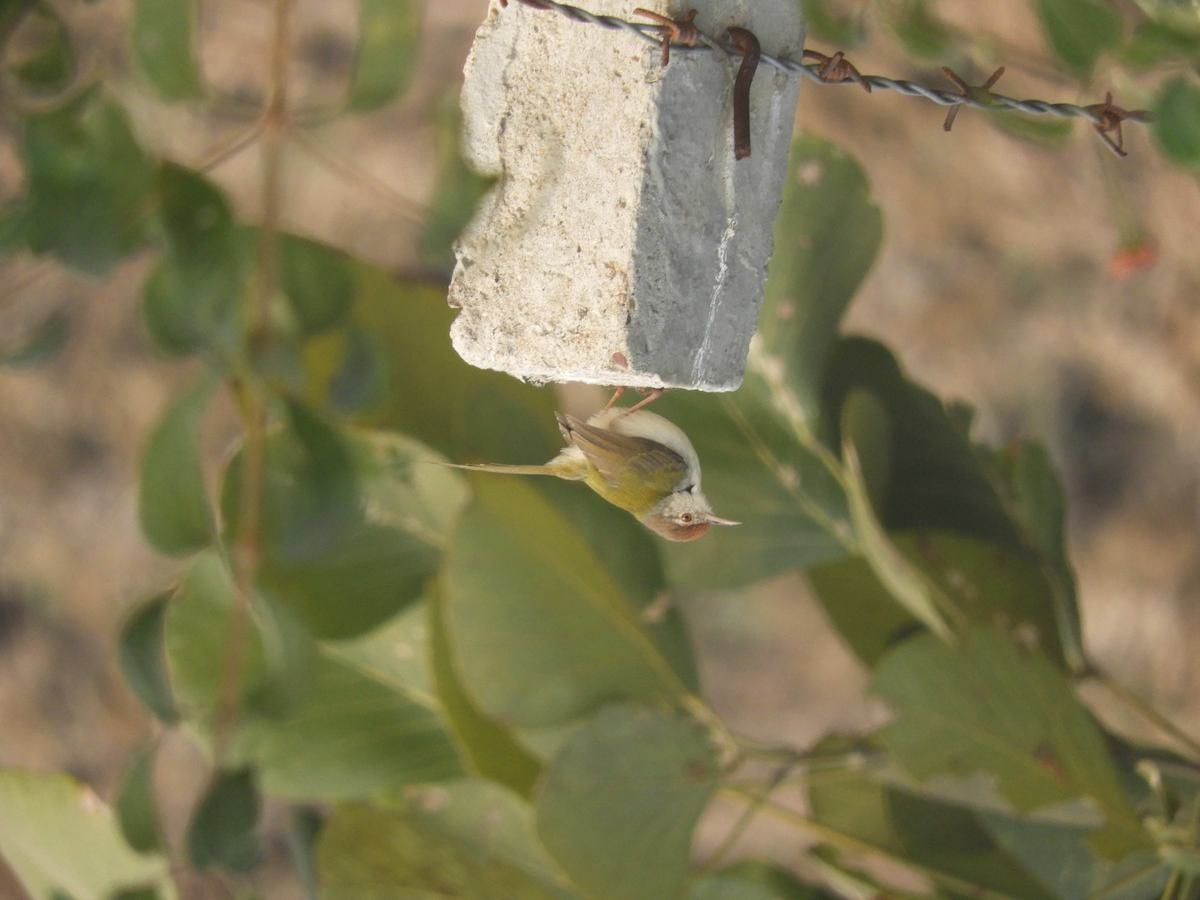tailorbird: (490, 377, 751, 563)
